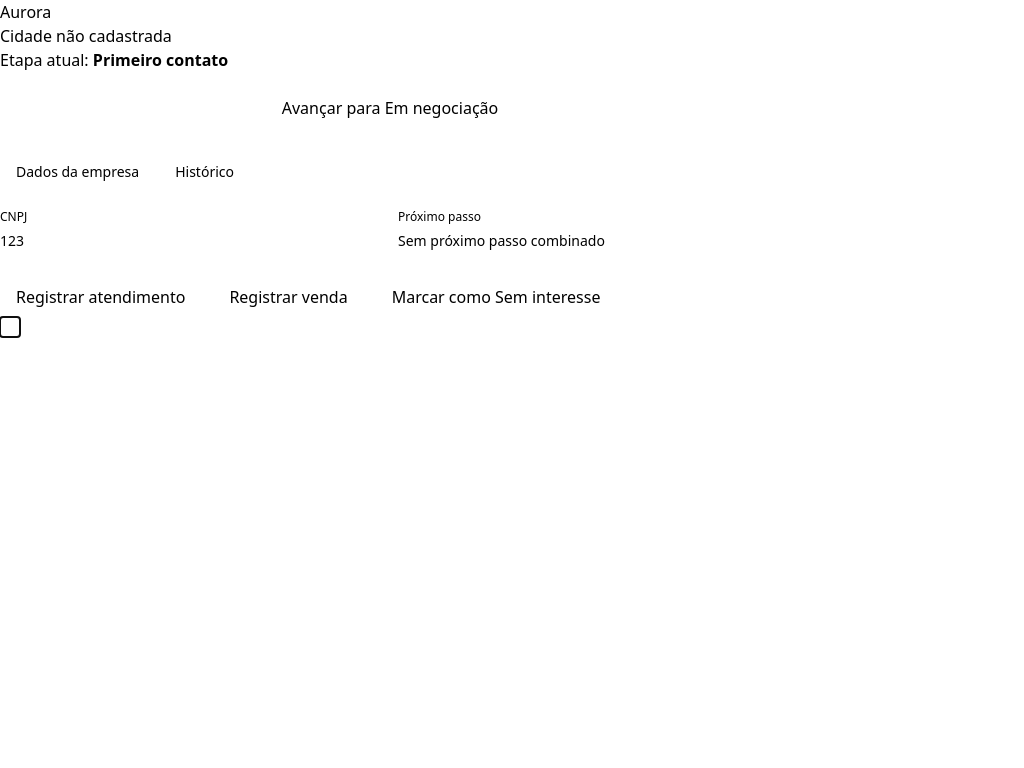
Test: modal oferece apenas próximo avanço e última etapa não tem select nem avanço
Click the button "Avançar para Em negociação": coordinates (390, 108) [0,88,780,128]
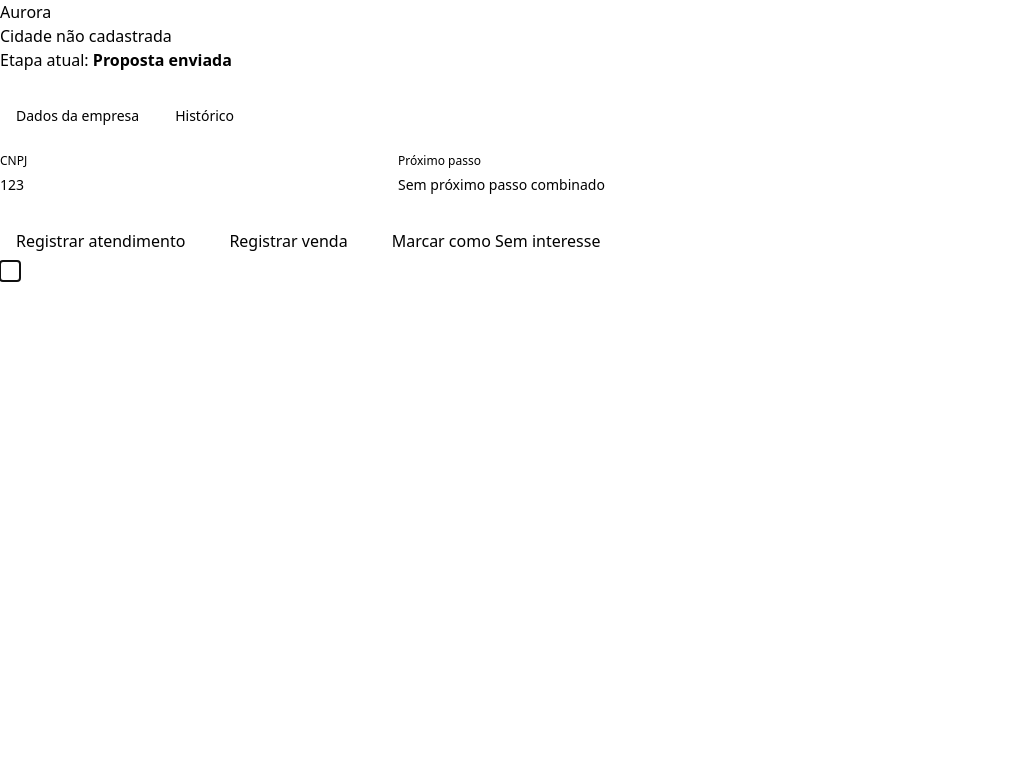
Expected: the text "Registrar venda" is shown, [213,221,364,261]
Expected: the text "Avançar para" is gone
